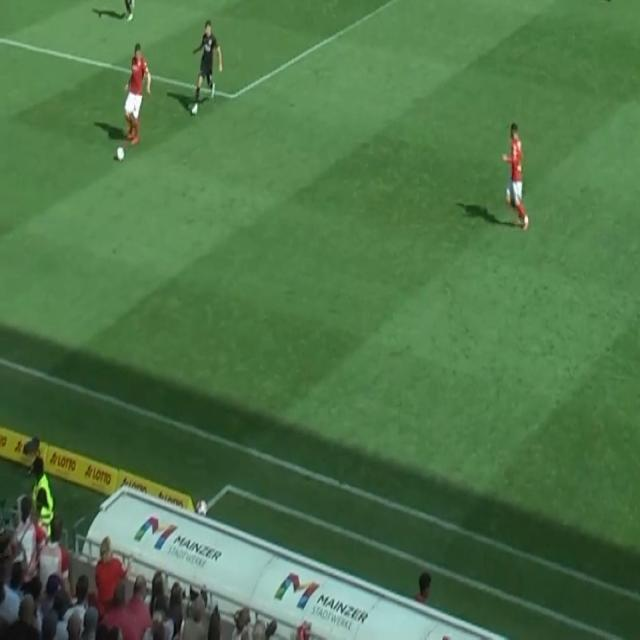ball: (116, 146, 125, 161)
